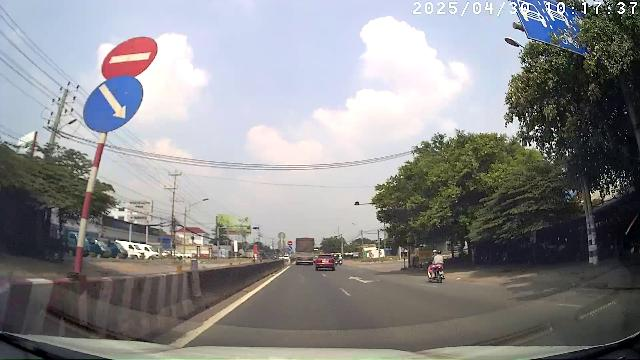102-cam-di-nguoc-chieu: (102, 35, 158, 77), (288, 241, 292, 245)
302a-huong-phai-di-vong-chuong-ngai-vat-1: (82, 77, 144, 133), (288, 246, 292, 250)
